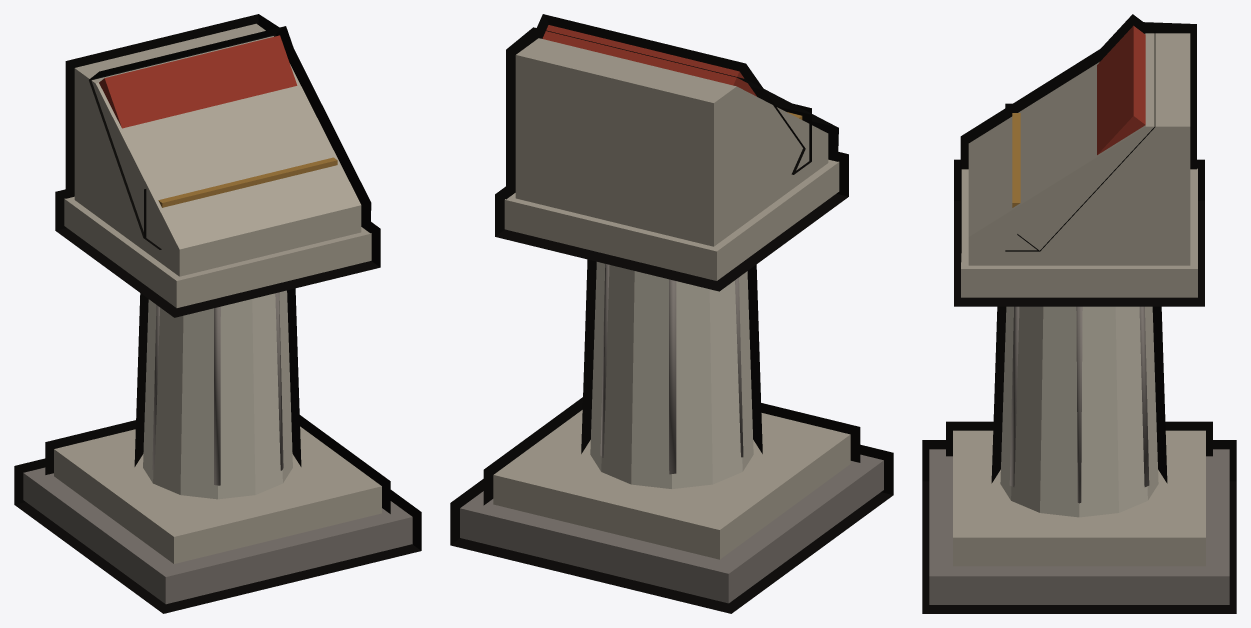
File: plinth.glb
3 renders of one model, left to right at view 1: azimuth 30°, elevation 25°; view 2: azimuth 150°, elevation 25°; view 3: azimuth 270°, elevation 25°, orthographic. The views are drawn at different scales.
Visible parts, largest first — view 1: Prop_forge_plinth; view 2: Prop_forge_plinth; view 3: Prop_forge_plinth.
Part boxes in pixels (bbox=[...]): Prop_forge_plinth: bbox=[14, 14, 421, 613]; Prop_forge_plinth: bbox=[450, 14, 893, 613]; Prop_forge_plinth: bbox=[922, 14, 1236, 613].
Size of the model in its own units: 0.7946 by 1.36 by 0.7946.
